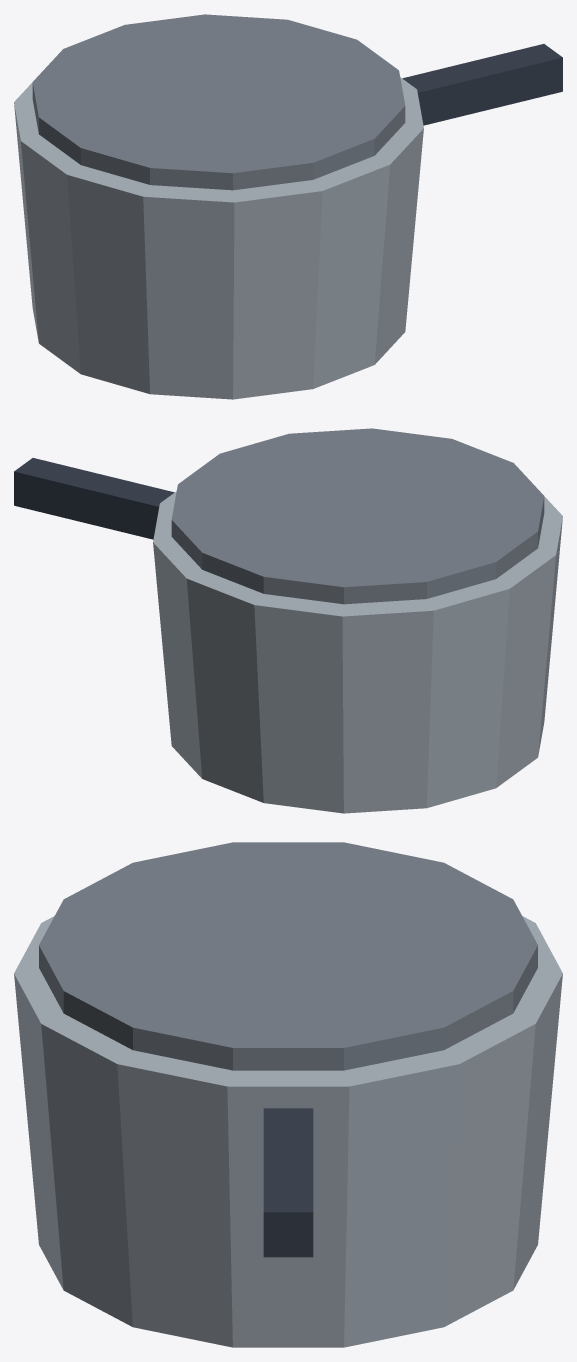
The model's file is Kitchen_Pot.fbx.
3 renders of one model, top to bottom at view 1: azimuth 30°, elevation 25°; view 2: azimuth 150°, elevation 25°; view 3: azimuth 270°, elevation 25°, orthographic. The views are drawn at different scales.
Parts seen in each view (by area): view 1: Pot; view 2: Pot; view 3: Pot.
Boxes of the visible parts, <box> form: Pot: <box>14,14,562,399</box>; Pot: <box>14,428,562,813</box>; Pot: <box>14,842,562,1347</box>.
Bounding box in the file's own units: 0.6245 × 0.265 × 0.44.
